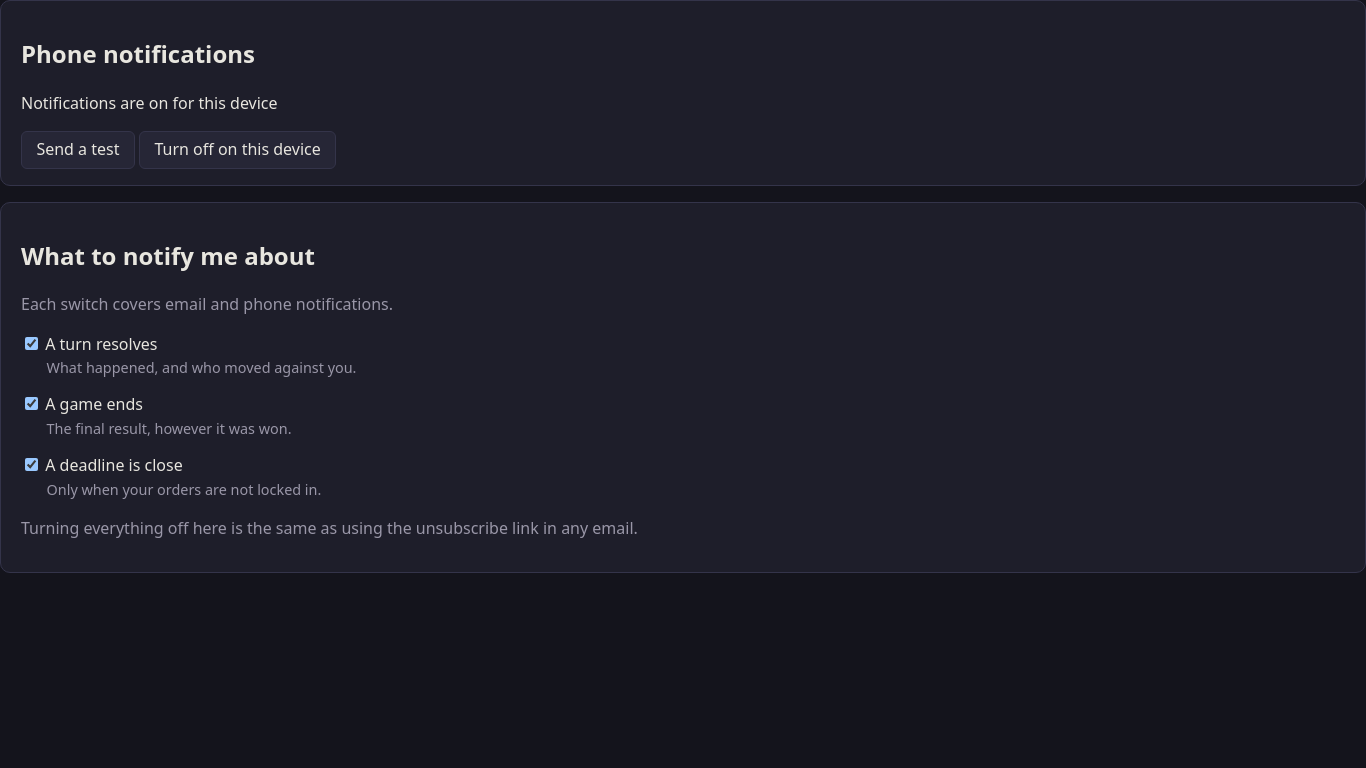
Test: Settings › phone notifications › reports a failed test
Click the button "Send a test" at point(78, 150), box [21,131,135,169]
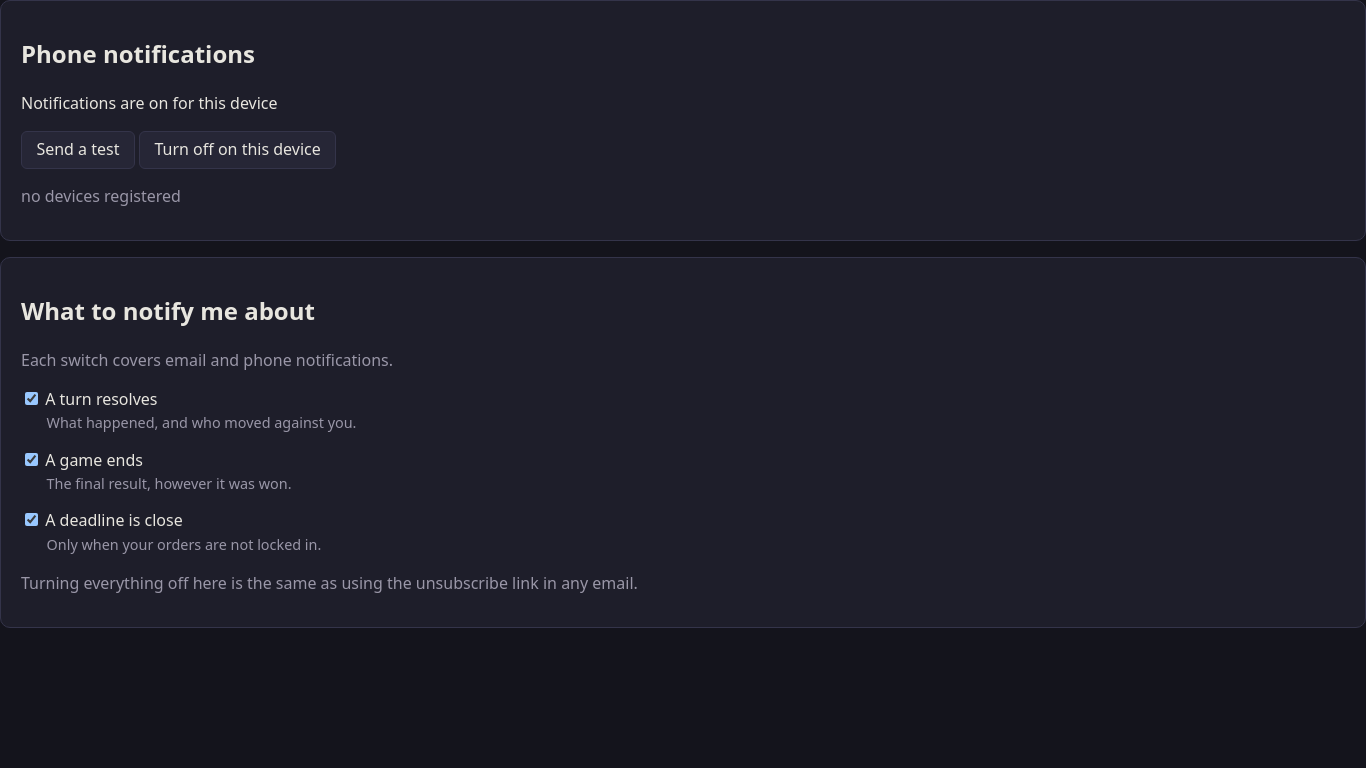
Result: the text "no devices registered" is shown at [21,185,181,207]
